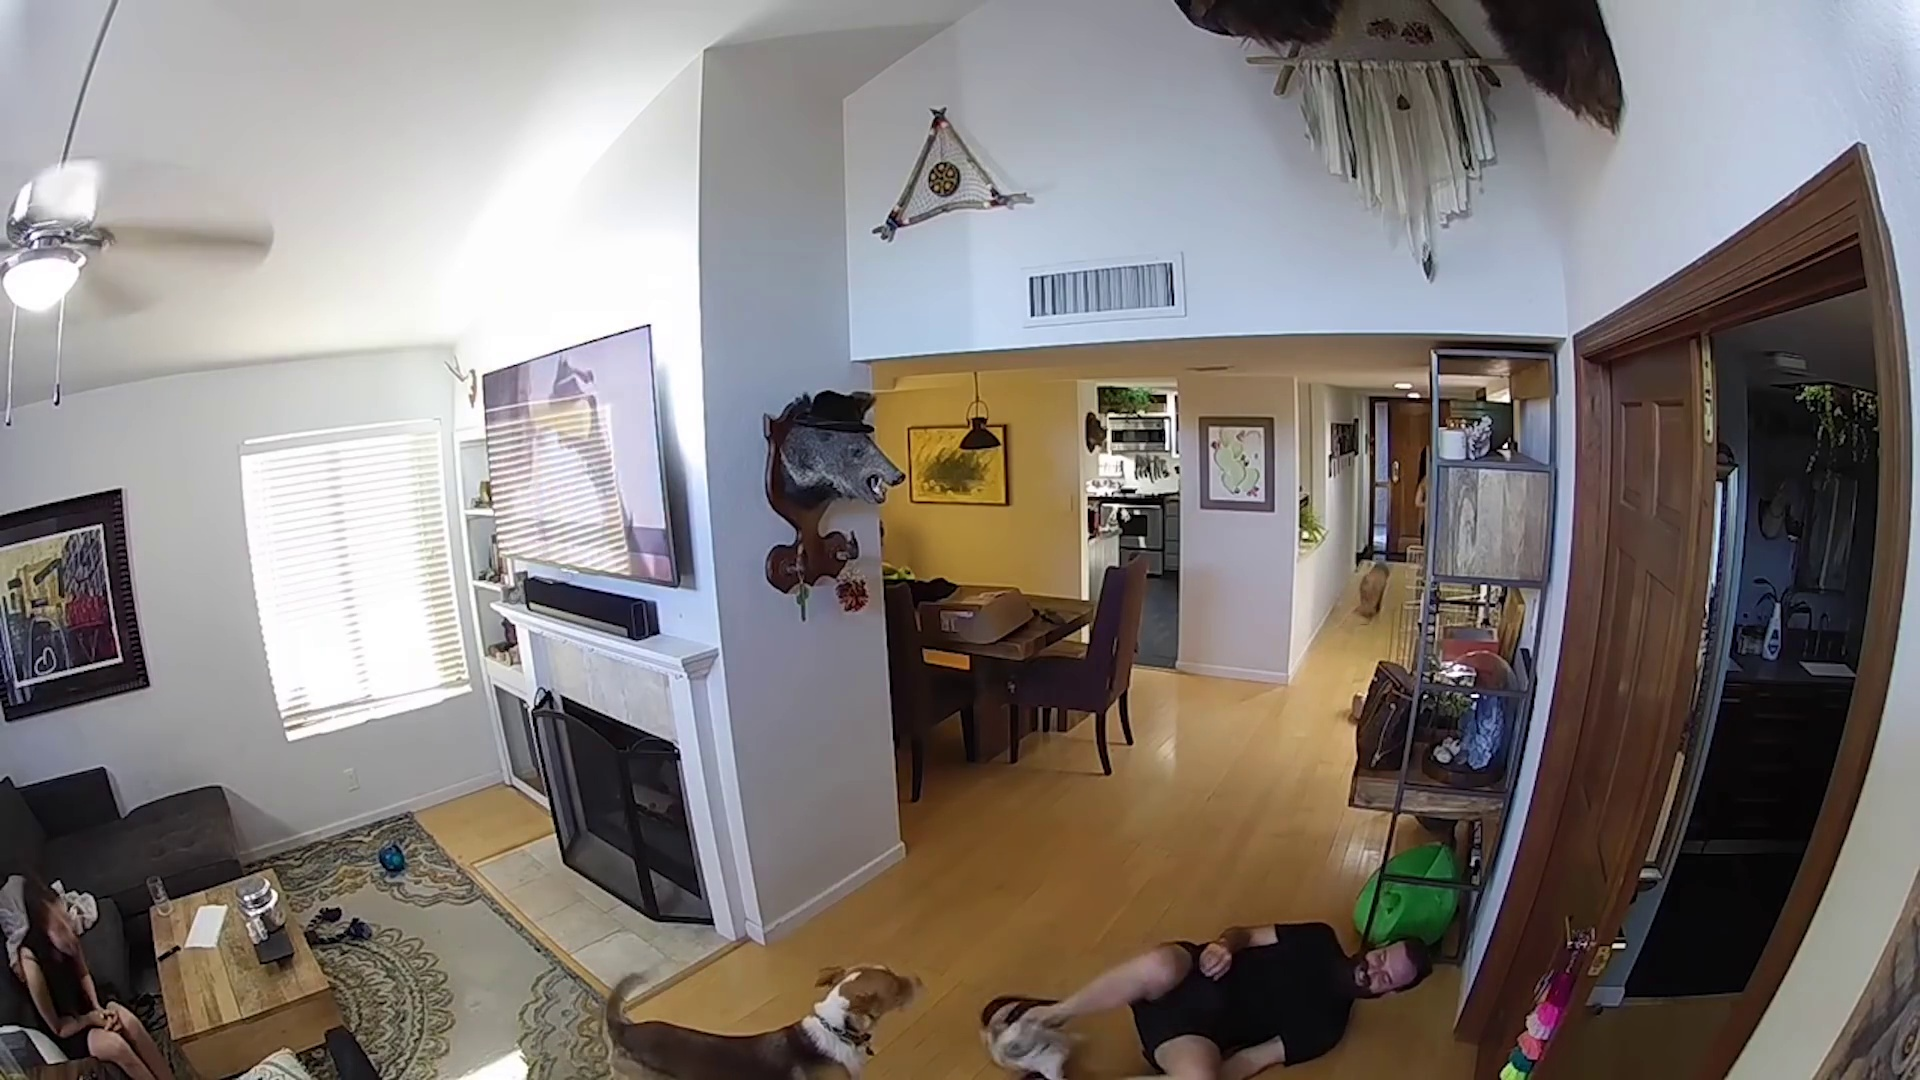face: (1349, 938, 1413, 996)
